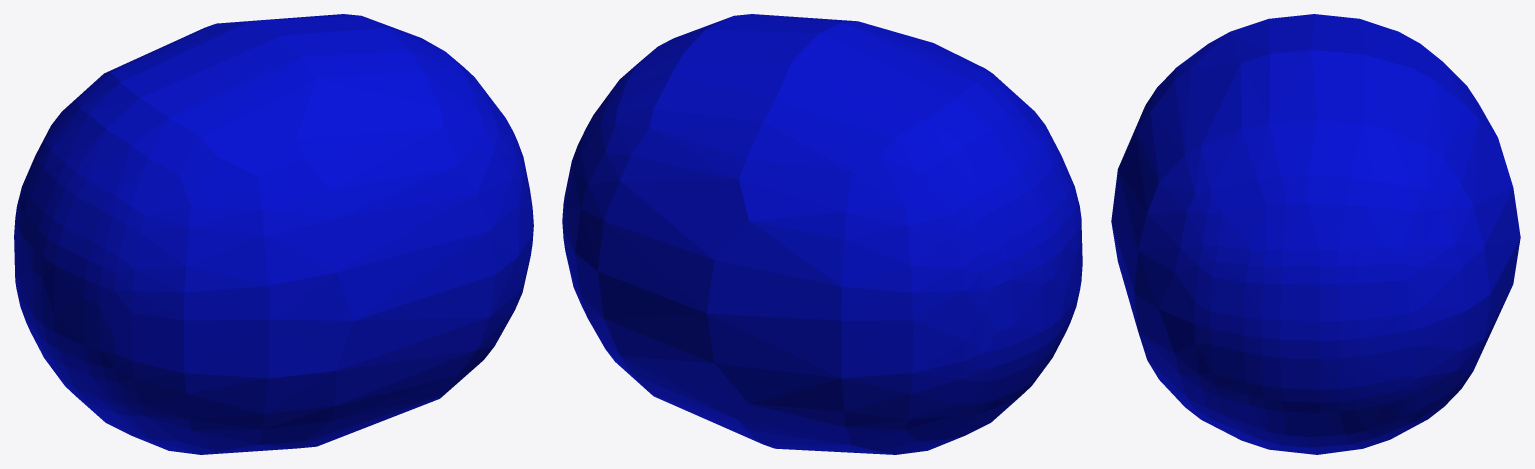
Rendered from COL_hollie_real_024_collision.dae.
3 views of the same model, side by side, from view 1: azimuth 30°, elevation 25°; view 2: azimuth 150°, elevation 25°; view 3: azimuth 270°, elevation 25° (orthographic). The views are drawn at different scales.
Parts seen in each view (by area): view 1: COL_hollie_real_024_collision; view 2: COL_hollie_real_024_collision; view 3: COL_hollie_real_024_collision.
Part boxes in pixels (x1,y1,x2,y2): COL_hollie_real_024_collision: (14,14,533,454); COL_hollie_real_024_collision: (562,14,1082,454); COL_hollie_real_024_collision: (1111,14,1520,454).
Bounding box in the file's own units: 0.0697 × 0.0567 × 0.0571.
